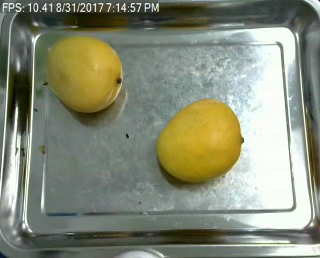Mango: (152, 96, 245, 179), (45, 35, 127, 115)
